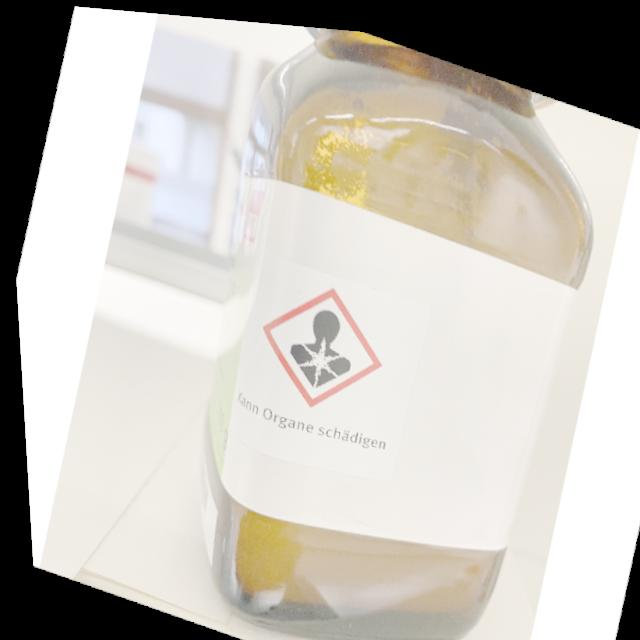serious health hazard: (238, 258, 397, 423)
